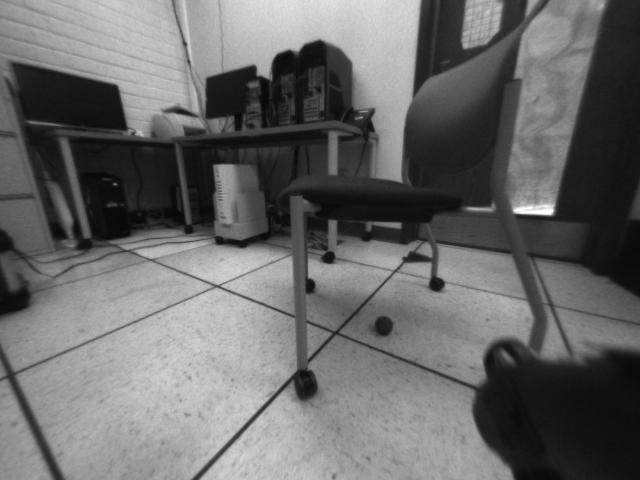dogtoy: (367, 312, 401, 342)
